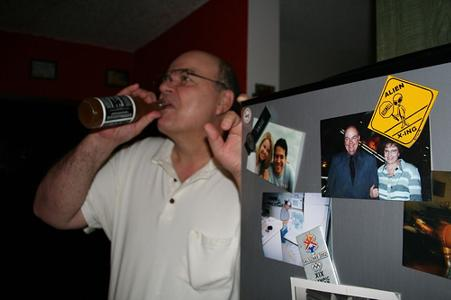person: (33, 48, 244, 300)
